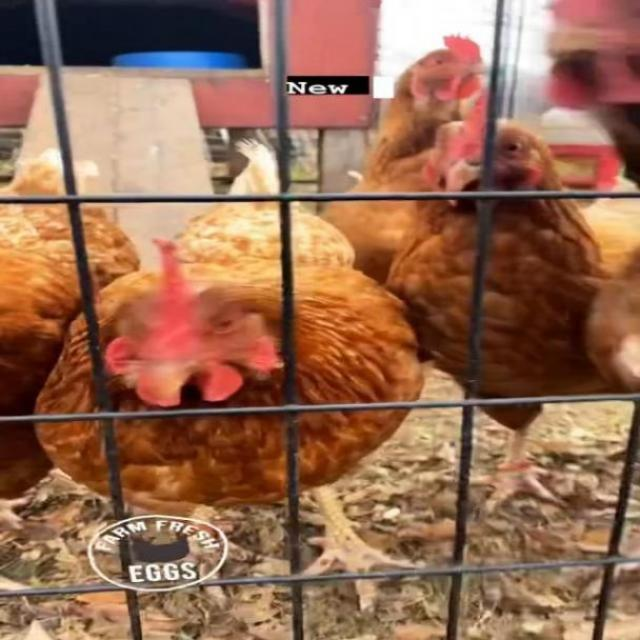Chicken: (33, 141, 423, 603), (387, 86, 640, 513), (0, 149, 141, 529), (319, 34, 494, 283), (538, 0, 640, 400)
